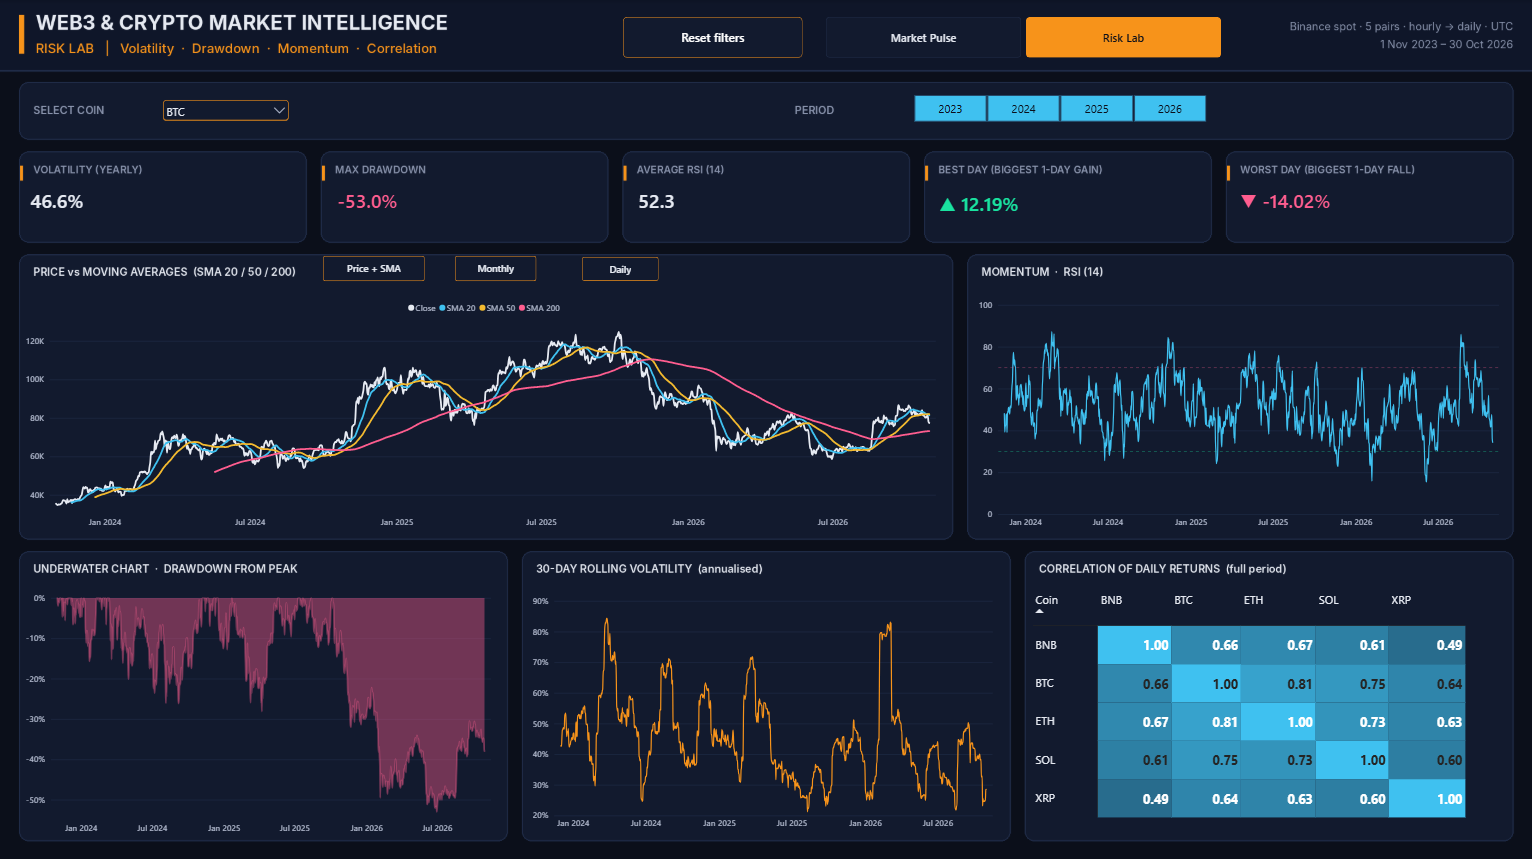

The dashboard page shown, as its layout file describes it:
{"tool":"powerbi","page":{"name":"Risk Lab","canvas":[2560,1440],"ordinal":1},"visuals":[{"type":"slicer","fields":{"Values":["dim_coin.ticker"]},"box":[268,162,220,40],"z":0},{"type":"slicer","fields":{"Values":["dim_date.Year"]},"box":[1507.4,157.8,526.7,47.9],"z":1000},{"type":"cardVisual","fields":{"Data":["_Measures.Volatility (Yearly)"]},"box":[26.6,253.6,482.4,149],"z":2000},{"type":"cardVisual","fields":{"Data":["_Measures.Average RSI (14)"]},"box":[1042.8,248.3,477,157.8],"z":3000},{"type":"cardVisual","fields":{"Data":["_Measures.Best Day"]},"box":[1544.6,253.6,477,157.8],"z":4000},{"type":"cardVisual","fields":{"Data":["_Measures.Max Drawdown"]},"box":[539.1,253.6,482.4,149],"z":5000},{"type":"cardVisual","fields":{"Data":["_Measures.Worst Day"]},"box":[2048.3,251.8,487.7,150.7],"z":6000},{"type":"lineChart","fields":{"Category":["dim_date.Date"],"Y":["Avg(fact_daily.rsi14)"]},"box":[1619.1,484.1,916.8,418.5],"z":8000},{"type":"areaChart","fields":{"Category":["dim_date.Date"],"Y":["Avg(fact_daily.drawdown)"]},"box":[26.6,973.6,824.6,439.8],"z":9000},{"type":"lineChart","fields":{"Category":["dim_date.Date"],"Y":["Avg(fact_daily.vol30_ann)"]},"box":[874.3,978.9,815.8,427.4],"z":10000},{"type":"pivotTable","fields":{"Columns":["corr_matrix.coin_y"],"Rows":["corr_matrix.coin_x"],"Values":["Avg(corr_matrix.correlation)"]},"box":[1709.6,955.9,819.3,475.3],"z":11000},{"type":"clusteredColumnChart","title":"v_daily","fields":{"Category":["dim_date.Date"],"Y":["Avg(fact_daily.daily_return)"]},"box":[26,484,1567,418],"z":13000},{"type":"actionButton","box":[540,428,170,42],"z":14000},{"type":"actionButton","box":[760,428,136,42],"z":15000},{"type":"actionButton","box":[972,430,128,40],"z":16000},{"type":"actionButton","box":[1040,28,300,68],"z":17000},{"type":"pageNavigator","box":[1380,28,660,68],"z":18000}]}

Visuals, with their boxes in screenshot pixels (x1, y1, x2, y2), scaled from the page's 2560x1440 canvas onto the 1532x859 screenshot:
slicer - dim_coin.ticker: BBox(160, 97, 292, 120)
slicer - dim_date.Year: BBox(902, 94, 1217, 123)
cardVisual - _Measures.Volatility (Yearly): BBox(16, 151, 305, 240)
cardVisual - _Measures.Average RSI (14): BBox(624, 148, 910, 242)
cardVisual - _Measures.Best Day: BBox(924, 151, 1210, 245)
cardVisual - _Measures.Max Drawdown: BBox(323, 151, 611, 240)
cardVisual - _Measures.Worst Day: BBox(1226, 150, 1518, 240)
lineChart - dim_date.Date x Avg(fact_daily.rsi14): BBox(969, 289, 1518, 538)
areaChart - dim_date.Date x Avg(fact_daily.drawdown): BBox(16, 581, 509, 843)
lineChart - dim_date.Date x Avg(fact_daily.vol30_ann): BBox(523, 584, 1011, 839)
pivotTable - corr_matrix.coin_y x corr_matrix.coin_x: BBox(1023, 570, 1513, 854)
"v_daily" clusteredColumnChart: BBox(16, 289, 953, 538)
actionButton: BBox(323, 255, 425, 280)
actionButton: BBox(455, 255, 536, 280)
actionButton: BBox(582, 257, 658, 280)
actionButton: BBox(622, 17, 802, 57)
pageNavigator: BBox(826, 17, 1221, 57)
